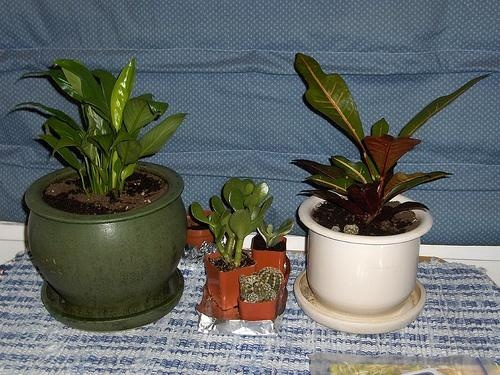pottedplant: (295, 50, 496, 335), (7, 57, 188, 333), (190, 180, 272, 310), (238, 268, 284, 322), (255, 215, 297, 269)
